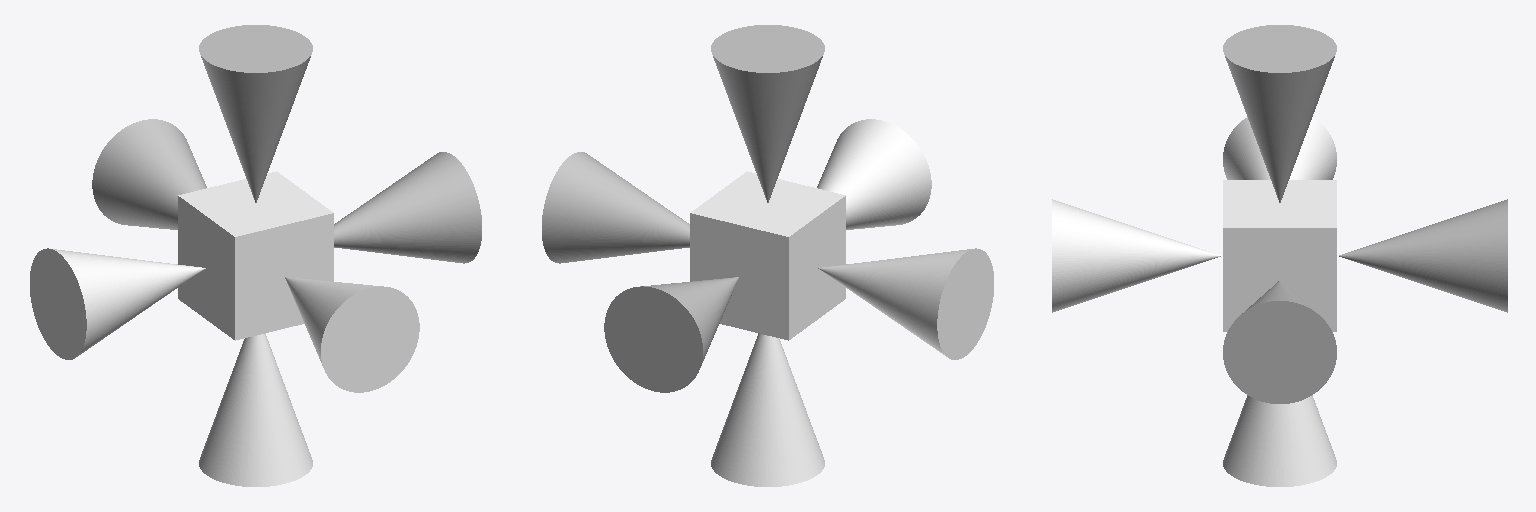
File: AxisGizmo.obj
3 views of the same model, side by side, from view 1: azimuth 30°, elevation 25°; view 2: azimuth 150°, elevation 25°; view 3: azimuth 270°, elevation 25° (orthographic).
Visible parts, largest first — view 1: Cube, NegZ_Cone.004, PosY_Cone, NegY_Cone.005, PosZ_Cone.001, NegX_Cone.003, PosX_Cone.002; view 2: Cube, NegZ_Cone.004, PosY_Cone, NegY_Cone.005, PosZ_Cone.001, PosX_Cone.002, NegX_Cone.003; view 3: Cube, PosY_Cone, PosZ_Cone.001, PosX_Cone.002, NegX_Cone.003, NegY_Cone.005, NegZ_Cone.004.
Part boxes in pixels (x1,y1,x2,y2): Cube: (178,171,333,340); NegZ_Cone.004: (30,248,205,359); PosY_Cone: (199,25,312,202); NegY_Cone.005: (199,333,312,486); PosZ_Cone.001: (334,152,481,263); NegX_Cone.003: (285,277,419,392); PosX_Cone.002: (92,119,206,229); Cube: (690,171,845,340); NegZ_Cone.004: (818,248,993,359); PosY_Cone: (711,25,824,202); NegY_Cone.005: (711,333,824,486); PosZ_Cone.001: (542,152,689,263); PosX_Cone.002: (604,277,738,392); NegX_Cone.003: (817,119,931,229); Cube: (1223,180,1336,331); PosY_Cone: (1223,25,1336,202); PosZ_Cone.001: (1223,281,1336,403); PosX_Cone.002: (1339,199,1507,312); NegX_Cone.003: (1052,199,1220,312); NegY_Cone.005: (1223,395,1336,486); NegZ_Cone.004: (1223,117,1336,179).
Bounding box in the file's own units: 4 × 4 × 4.